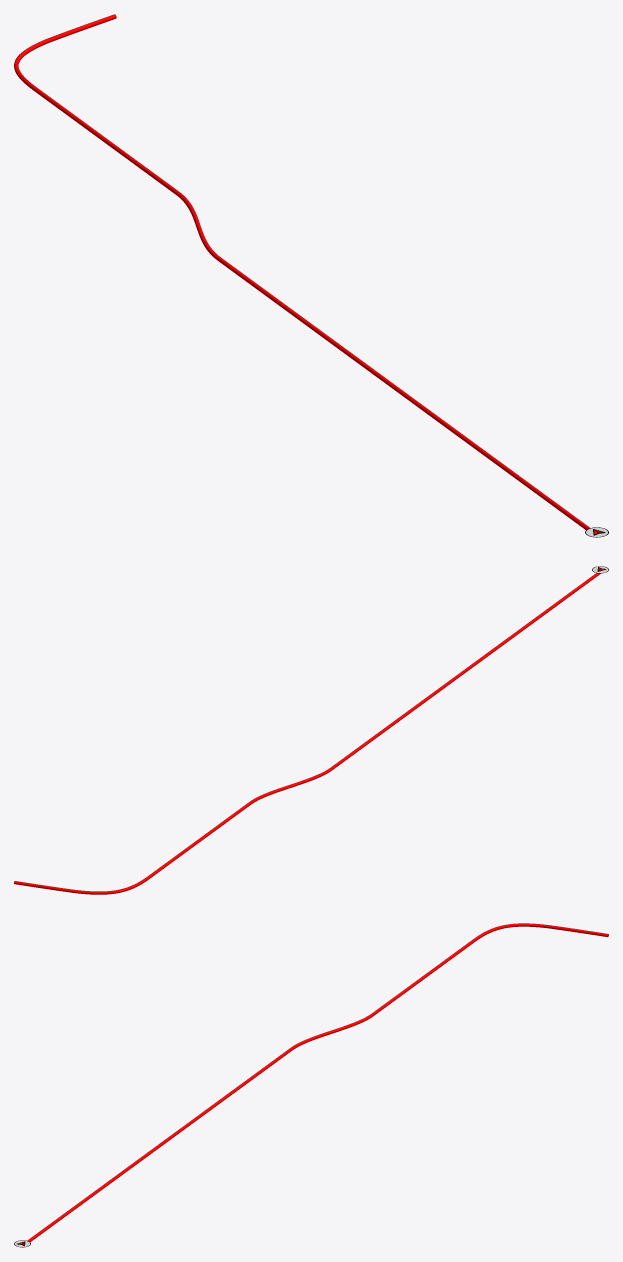
File: route_5d76f13f-1592-4c63-9677-1933518b110c_1783849638308_single.glb
3 renders of one model, top to bottom at view 1: azimuth 30°, elevation 25°; view 2: azimuth 150°, elevation 25°; view 3: azimuth 330°, elevation 25°, orthographic. The views are drawn at different scales.
Parts seen in each view (by area): view 1: Kapelle.002; view 2: Kapelle.002; view 3: Kapelle.002.
Boxes of the visible parts, bbox=[...] form: Kapelle.002: bbox=[14, 14, 596, 537]; Kapelle.002: bbox=[14, 573, 600, 894]; Kapelle.002: bbox=[22, 923, 608, 1247].
Bounding box in the file's own units: 3.57 × 0.109 × 22.52.
